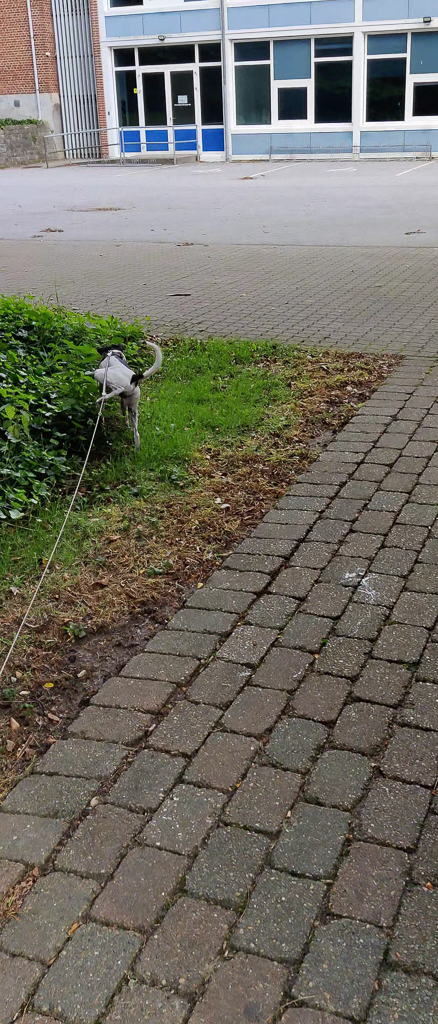Dog: (71, 330, 178, 460)
